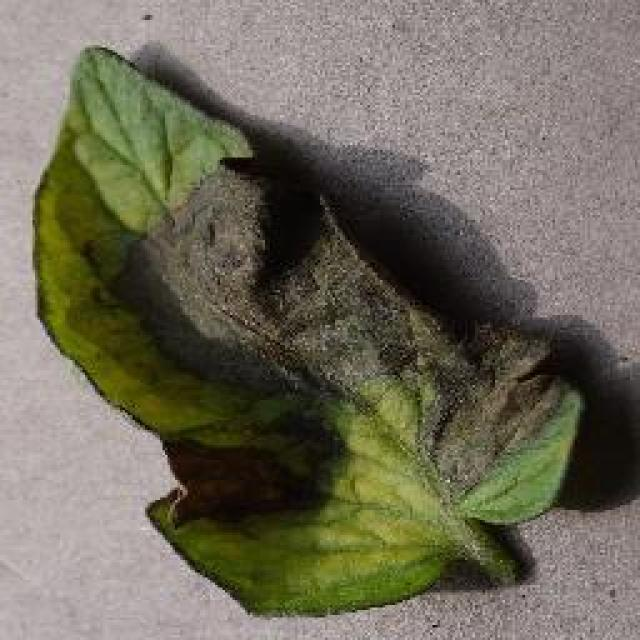Tomato Late Blight: (138, 127, 602, 530)
